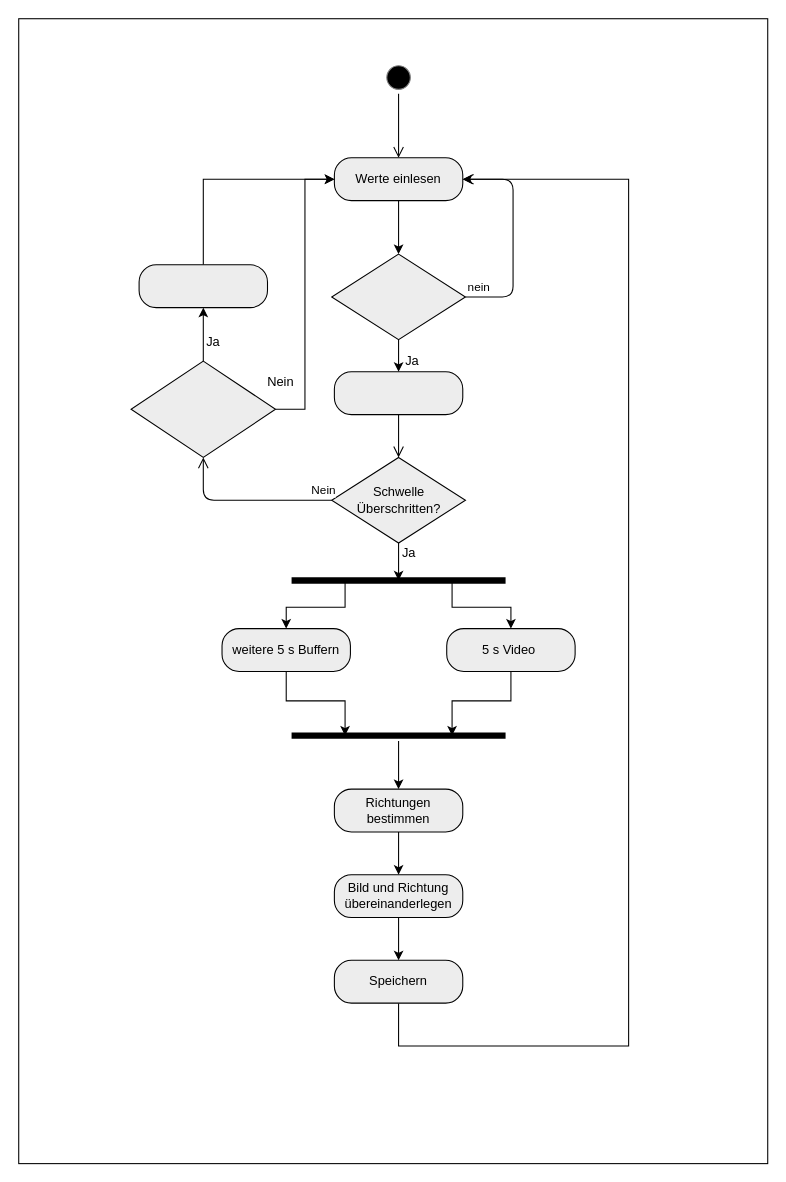
This 786x1182 diagram has some shape labels left out. Here are the shapes that lost their labels. From the top down, the centre of each, then its label:
At pixel 203 286: "ersten 100 Werte löschen".
At pixel 398 296: "100 Werte vorhanden?".
At pixel 203 408: "bereits Werte aus 5 s vorhanden?".
At pixel 398 393: "100 Werte überprüfen".
